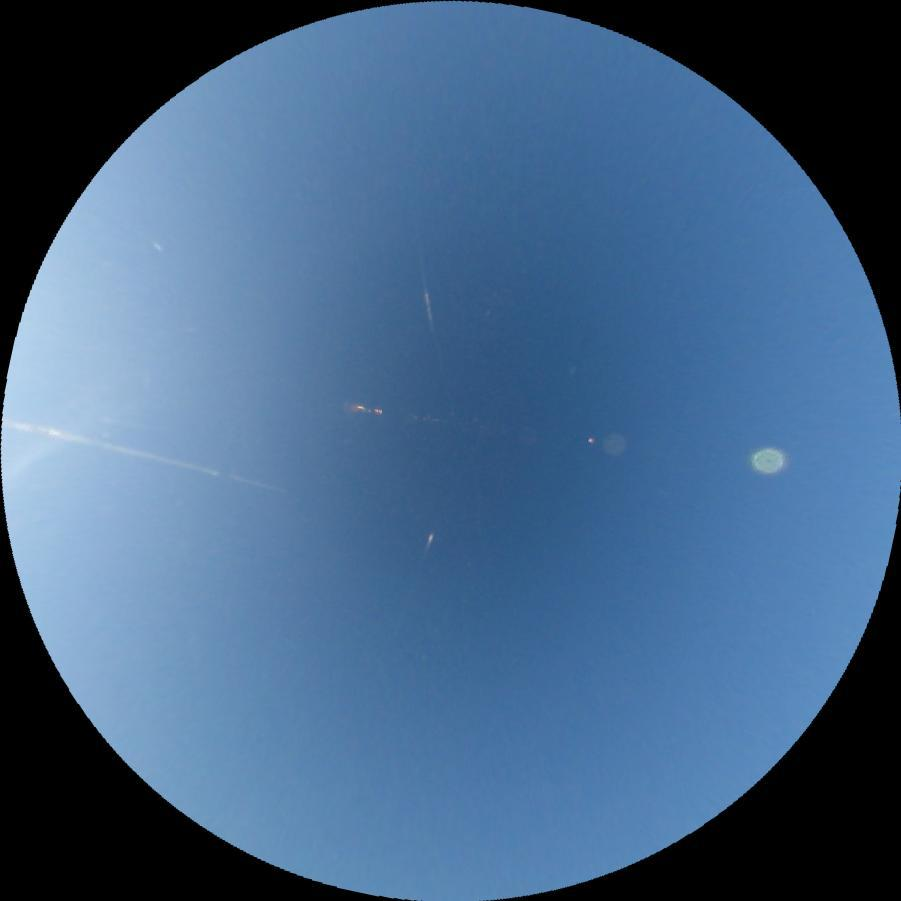parasite: (421, 277, 435, 338), (417, 525, 439, 561)
